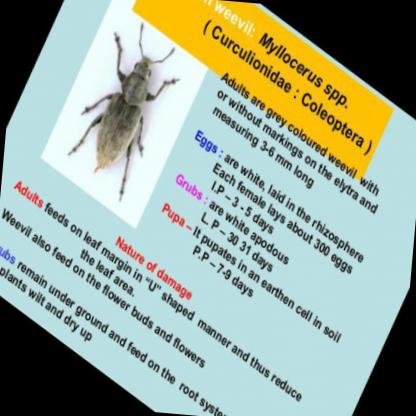ash weevil: (71, 24, 151, 173)
